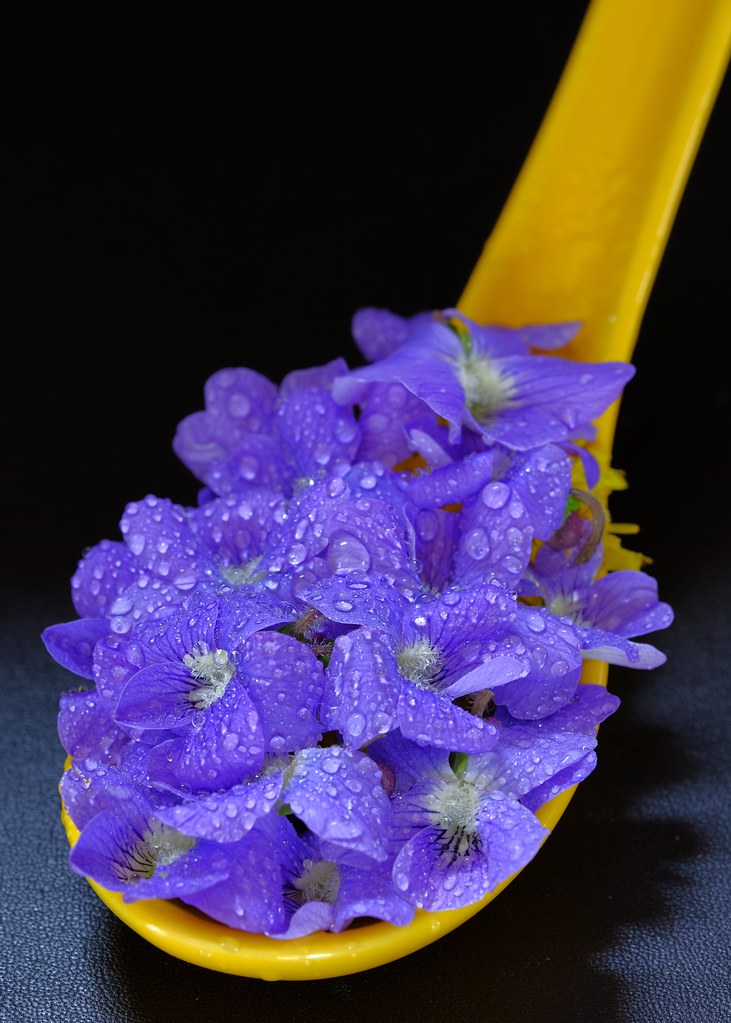violet: (63, 327, 680, 924)
